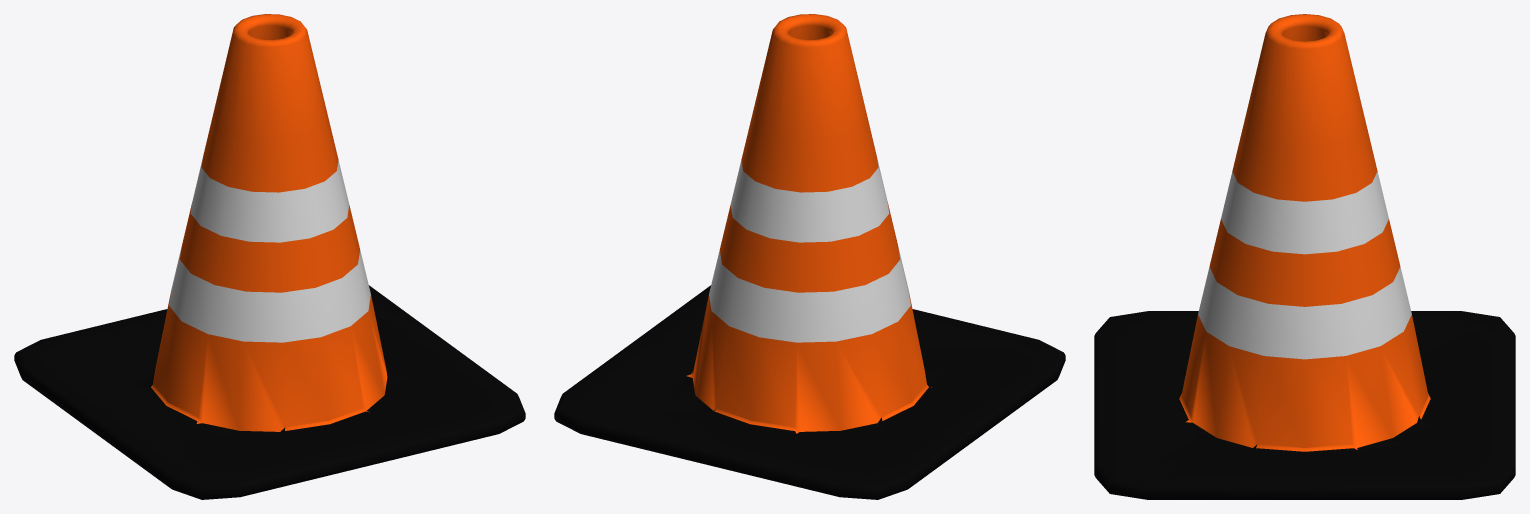
Rendered from bollard1.fbx.
3 views of the same model, side by side, from view 1: azimuth 30°, elevation 25°; view 2: azimuth 150°, elevation 25°; view 3: azimuth 270°, elevation 25° (orthographic). The views are drawn at different scales.
Parts seen in each view (by area): view 1: Plane; view 2: Plane; view 3: Plane.
Boxes of the visible parts, <box> form: Plane: <box>14,14,525,499</box>; Plane: <box>554,14,1065,499</box>; Plane: <box>1094,14,1515,499</box>.
Bounding box in the file's own units: 1.54 × 1.54 × 1.54.
